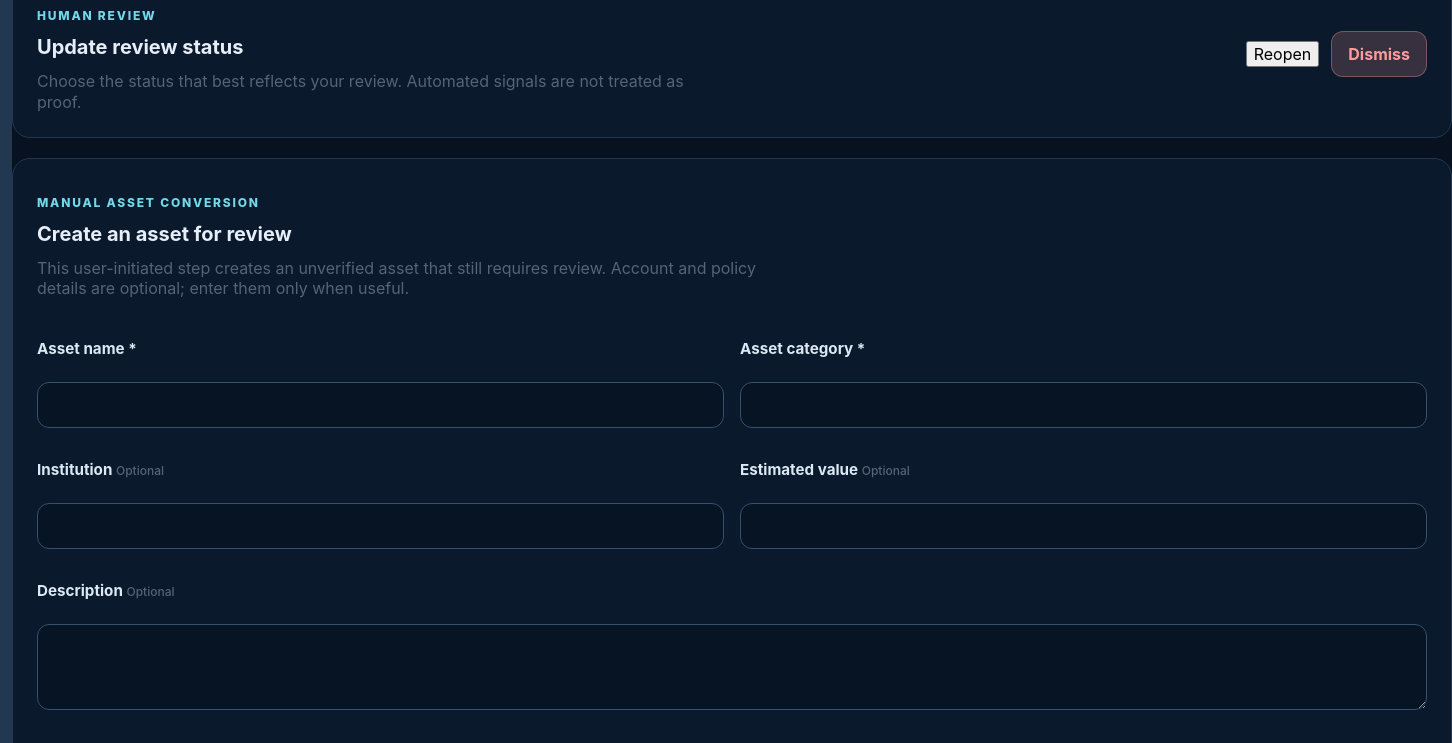
Test: FindingDetailPage › shows sanitized conflict feedback: This finding is no longer eligible for asset conversion.
(page scrolled)
Type "Former employer plan" into the field labelled "Asset name *". click: (380, 405)
box: [37, 382, 724, 428]
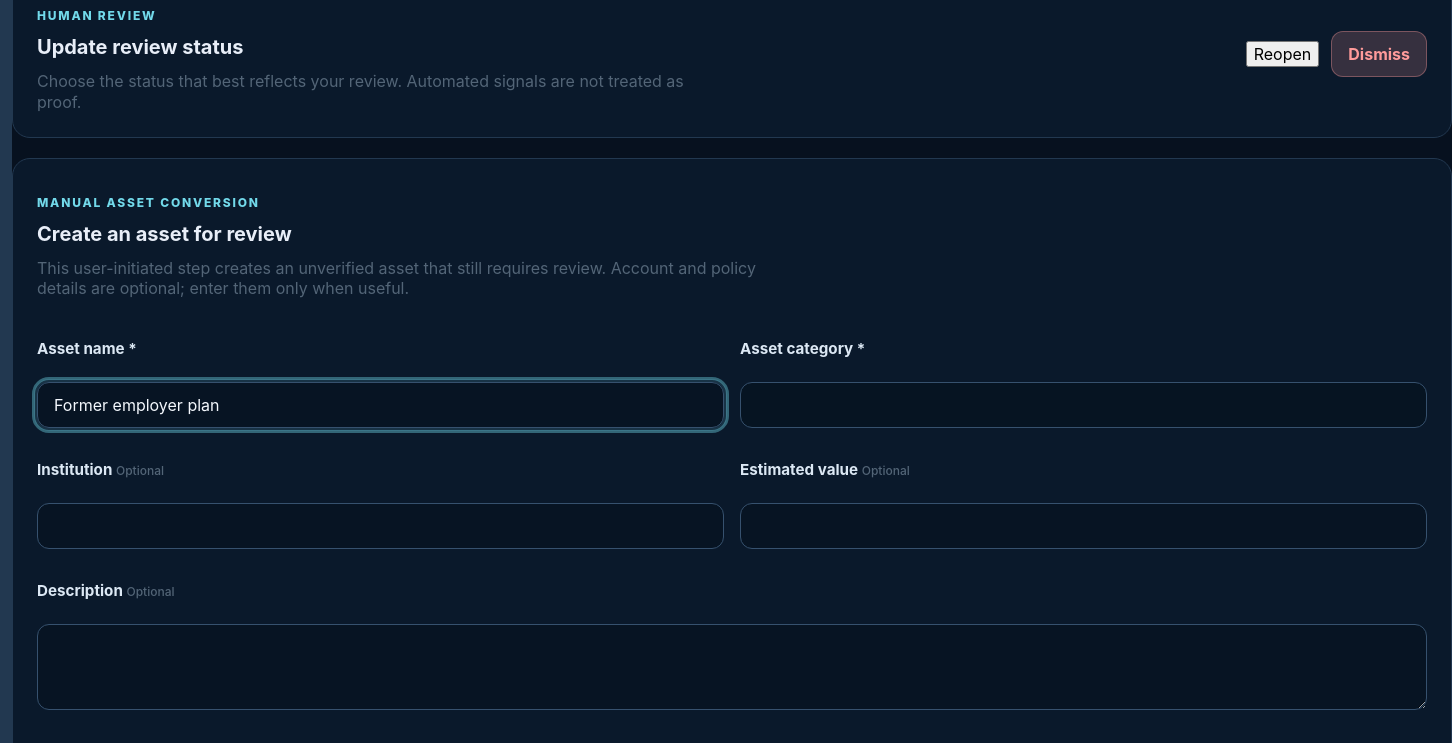
Type "Retirement" into the field labelled "Asset category *". click: (1084, 405)
box: [740, 382, 1427, 428]
(page scrolled)
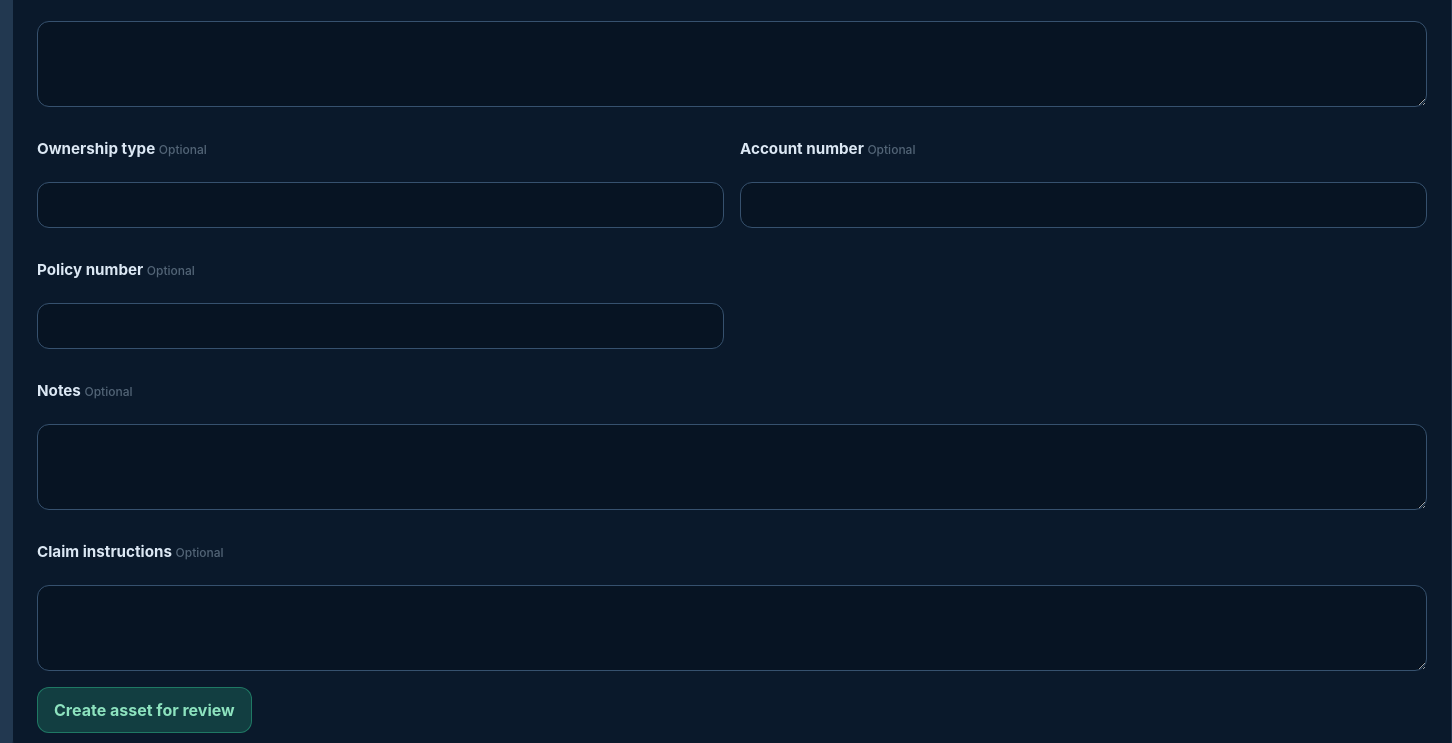
Click the button "Create asset for review". click: (144, 710)
box: [37, 687, 252, 733]
(page scrolled)
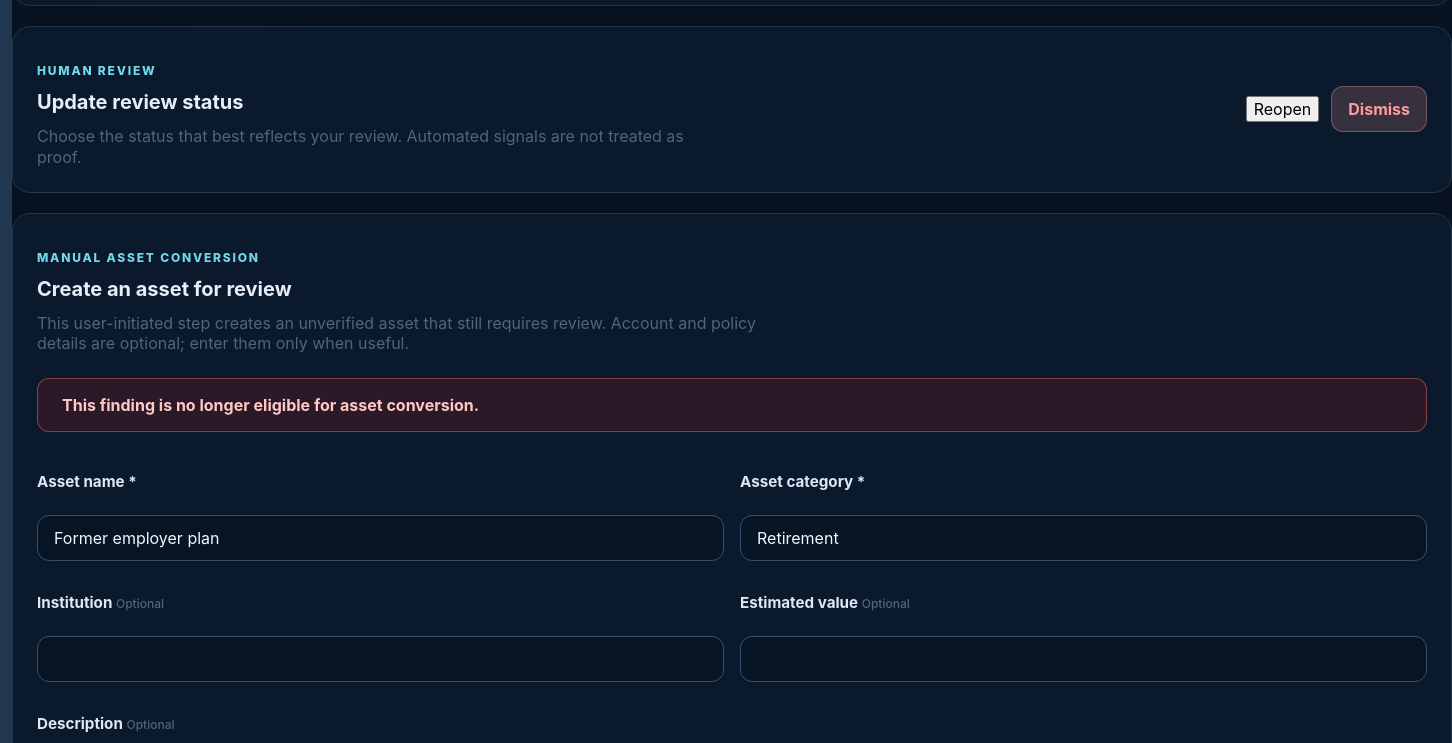
Now the message reads "This finding is no longer eligible for asset conversion.", box [62, 395, 479, 415]
